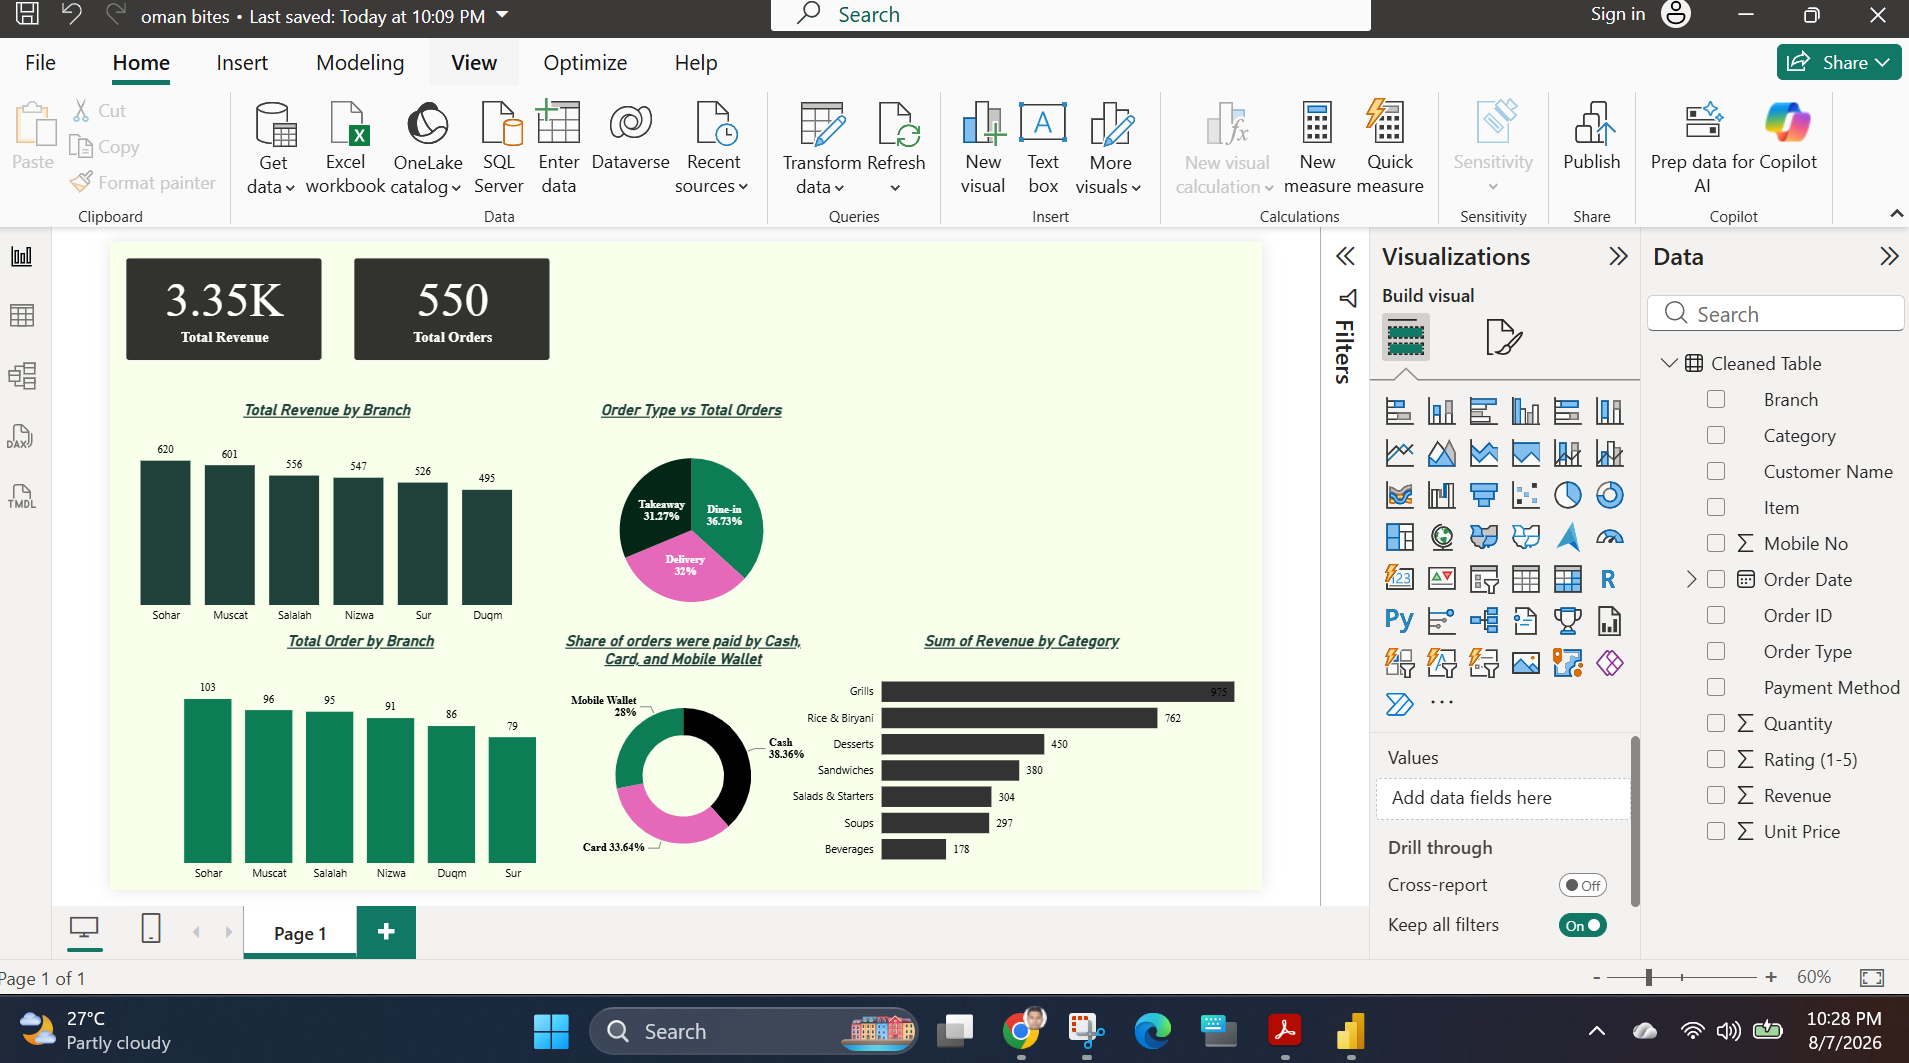

Layout of this report page (visuals, bound fields, positions):
{"tool":"powerbi","page":{"name":"1 -11 Q&A","canvas":[1280,720],"ordinal":0},"visuals":[{"type":"cardVisual","fields":{"Data":["Sum(Cleaned Table.Revenue)"]},"box":[1078.3,125,201.7,126.7],"z":0},{"type":"cardVisual","fields":{"Data":["CountNonNull(Cleaned Table.Order ID)"]},"box":[856.7,131.7,221.7,120],"z":1000},{"type":"columnChart","title":"Total Revenue by Branch","fields":{"Y":["Sum(Cleaned Table.Revenue)"],"Category":["Cleaned Table.Branch"]},"box":[1.7,138.3,411.7,256.7],"z":2000},{"type":"barChart","title":"Total Order by Branch","fields":{"Category":["Cleaned Table.Branch"],"Y":["CountNonNull(Cleaned Table.Order ID)"]},"box":[1.7,425,411.7,286.7],"z":3000},{"type":"barChart","fields":{"Category":["Cleaned Table.Category"],"Y":["Sum(Cleaned Table.Revenue)"]},"box":[690,240,590,215],"z":4000},{"type":"donutChart","title":"Share of orders were paid by Cash, Card, and Mobile Wallet","fields":{"Category":["Cleaned Table.Payment Method"],"Y":["Divide(CountNonNull(Cleaned Table.Order ID), ScopedEval(CountNonNull(Cleaned Table.Order ID), []))"]},"box":[423.3,441.7,286.7,270],"z":5000},{"type":"pieChart","title":"Order Type vs Total Orders","fields":{"Category":["Cleaned Table.Order Type"],"Y":["Count(Cleaned Table.Order ID)"]},"box":[406.7,161.7,283.3,210],"z":6000},{"type":"lineClusteredColumnComboChart","fields":{"Category":["Cleaned Table.Item"],"Y":["Sum(Cleaned Table.Revenue)"]},"box":[715,475,533.3,245],"z":7000},{"type":"slicer","fields":{"Values":["Cleaned Table.Branch"]},"box":[0,0,268.3,91.7],"z":7001},{"type":"slicer","fields":{"Values":["Cleaned Table.Category"]},"box":[298.3,1.7,296.7,91.7],"z":7002},{"type":"slicer","fields":{"Values":["Cleaned Table.Order Type"]},"box":[620,0,318.3,91.7],"z":7003},{"type":"slicer","fields":{"Values":["Cleaned Table.Order Date"]},"box":[968.3,1.7,311.7,91.7],"z":7004}]}

Visuals, with their boxes on the page's 1280x720 design canvas (x1, y1, x2, y2). These are canvas units, not pixel positions in the 1909x1063 screenshot, which may show the page scaled, cropped or inside an application window:
cardVisual - Sum(Cleaned Table.Revenue): {"left": 1078, "top": 125, "right": 1280, "bottom": 252}
cardVisual - CountNonNull(Cleaned Table.Order ID): {"left": 857, "top": 132, "right": 1078, "bottom": 252}
"Total Revenue by Branch" columnChart: {"left": 2, "top": 138, "right": 413, "bottom": 395}
"Total Order by Branch" barChart: {"left": 2, "top": 425, "right": 413, "bottom": 712}
barChart - Cleaned Table.Category x Sum(Cleaned Table.Revenue): {"left": 690, "top": 240, "right": 1280, "bottom": 455}
"Share of orders were paid by Cash, Card, and Mobile Wallet" donutChart: {"left": 423, "top": 442, "right": 710, "bottom": 712}
"Order Type vs Total Orders" pieChart: {"left": 407, "top": 162, "right": 690, "bottom": 372}
lineClusteredColumnComboChart - Cleaned Table.Item x Sum(Cleaned Table.Revenue): {"left": 715, "top": 475, "right": 1248, "bottom": 720}
slicer - Cleaned Table.Branch: {"left": 0, "top": 0, "right": 268, "bottom": 92}
slicer - Cleaned Table.Category: {"left": 298, "top": 2, "right": 595, "bottom": 93}
slicer - Cleaned Table.Order Type: {"left": 620, "top": 0, "right": 938, "bottom": 92}
slicer - Cleaned Table.Order Date: {"left": 968, "top": 2, "right": 1280, "bottom": 93}
